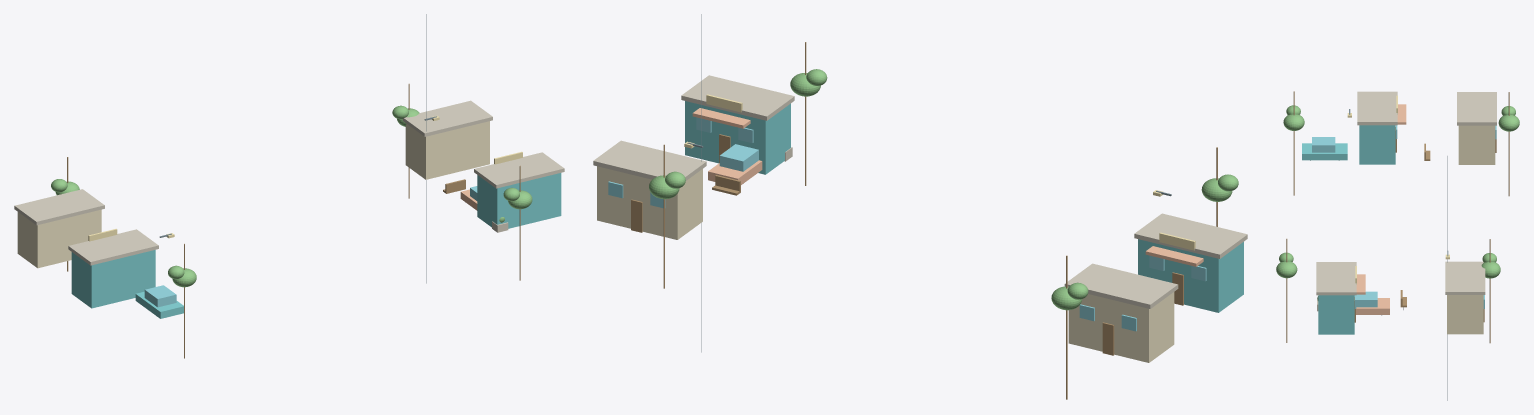
The model's file is yun_street_block_malecon_v1.glb.
3 views of the same model, side by side, from view 1: azimuth 30°, elevation 25°; view 2: azimuth 150°, elevation 25°; view 3: azimuth 270°, elevation 25° (orthographic). The views are drawn at different scales.
Visible parts, largest first — view 1: malecon_build_right_a__body, malecon_shop_left__body, malecon_build_left_a__body, malecon_shop_right__body, malecon_build_left_a__roof, malecon_shop_left__roof, malecon_shop_right__roof, malecon_build_right_a__roof, malecon_car_left__chassis, malecon_car_left__cabin; view 2: malecon_build_left_a__body, malecon_build_right_a__body, malecon_shop_left__body, malecon_shop_right__body, malecon_build_left_a__roof, malecon_build_right_a__roof, malecon_shop_left__roof, malecon_shop_right__roof, malecon_car_right__cabin, malecon_car_right__chassis, malecon_shop_left__awning, malecon_shop_right__awning; view 3: malecon_build_left_a__body, malecon_build_right_a__body, malecon_shop_left__body, malecon_shop_right__body, malecon_shop_left__roof, malecon_shop_right__roof, malecon_build_right_a__roof, malecon_build_left_a__roof, malecon_car_left__chassis, malecon_car_right__chassis, malecon_car_left__cabin, malecon_car_right__cabin (+4 smaller).
Part boxes in pixels (left/top/right/bottom): malecon_build_right_a__body: left=405, top=121, right=489, bottom=179; malecon_shop_left__body: left=71, top=250, right=155, bottom=308; malecon_build_left_a__body: left=17, top=209, right=101, bottom=268; malecon_shop_right__body: left=477, top=173, right=561, bottom=228; malecon_build_left_a__roof: left=14, top=189, right=104, bottom=225; malecon_shop_left__roof: left=68, top=229, right=158, bottom=265; malecon_shop_right__roof: left=474, top=152, right=564, bottom=188; malecon_build_right_a__roof: left=402, top=100, right=492, bottom=136; malecon_car_left__chassis: left=135, top=291, right=183, bottom=318; malecon_car_left__cabin: left=144, top=285, right=176, bottom=307; malecon_build_left_a__body: left=1068, top=292, right=1174, bottom=362; malecon_build_right_a__body: left=597, top=166, right=702, bottom=239; malecon_shop_left__body: left=1138, top=239, right=1243, bottom=312; malecon_shop_right__body: left=685, top=101, right=790, bottom=174; malecon_build_left_a__roof: left=1064, top=263, right=1178, bottom=308; malecon_build_right_a__roof: left=593, top=140, right=706, bottom=180; malecon_shop_left__roof: left=1134, top=213, right=1247, bottom=258; malecon_shop_right__roof: left=681, top=75, right=794, bottom=120; malecon_car_right__cabin: left=719, top=144, right=758, bottom=171; malecon_car_right__chassis: left=708, top=160, right=762, bottom=184; malecon_shop_left__awning: left=1145, top=246, right=1203, bottom=266; malecon_shop_right__awning: left=692, top=108, right=750, bottom=128; malecon_build_left_a__body: left=1458, top=125, right=1495, bottom=164; malecon_build_right_a__body: left=1447, top=295, right=1483, bottom=334; malecon_shop_left__body: left=1359, top=125, right=1395, bottom=164; malecon_shop_right__body: left=1318, top=295, right=1354, bottom=334; malecon_shop_left__roof: left=1357, top=91, right=1397, bottom=125; malecon_shop_right__roof: left=1316, top=262, right=1356, bottom=295; malecon_build_right_a__roof: left=1445, top=261, right=1485, bottom=294; malecon_build_left_a__roof: left=1457, top=92, right=1496, bottom=125; malecon_car_left__chassis: left=1302, top=143, right=1347, bottom=160; malecon_car_right__chassis: left=1356, top=298, right=1389, bottom=314; malecon_car_left__cabin: left=1312, top=137, right=1335, bottom=152; malecon_car_right__cabin: left=1354, top=291, right=1377, bottom=307.
Size of the model in its own units: 32.4 by 18.49 by 16.65.
